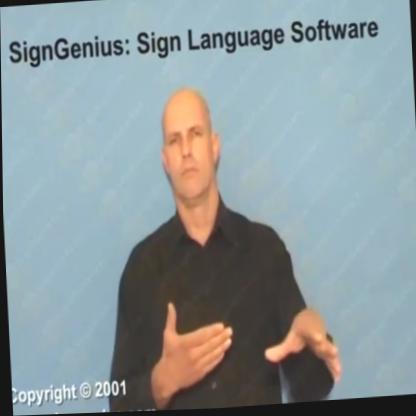Expensive: (155, 273, 347, 412)
